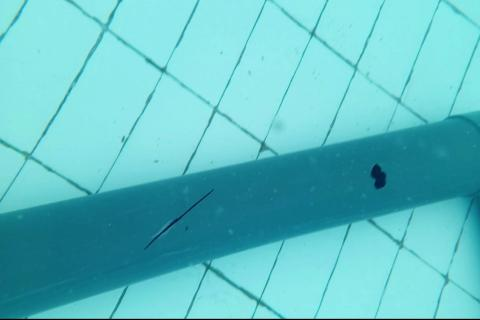kebocoran: (370, 162, 389, 191)
keretakan: (143, 186, 216, 252)
